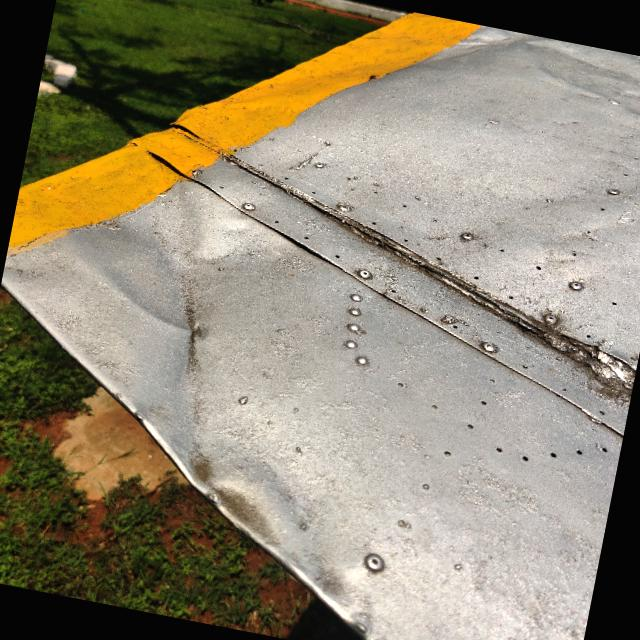dent: (107, 352, 452, 640)
